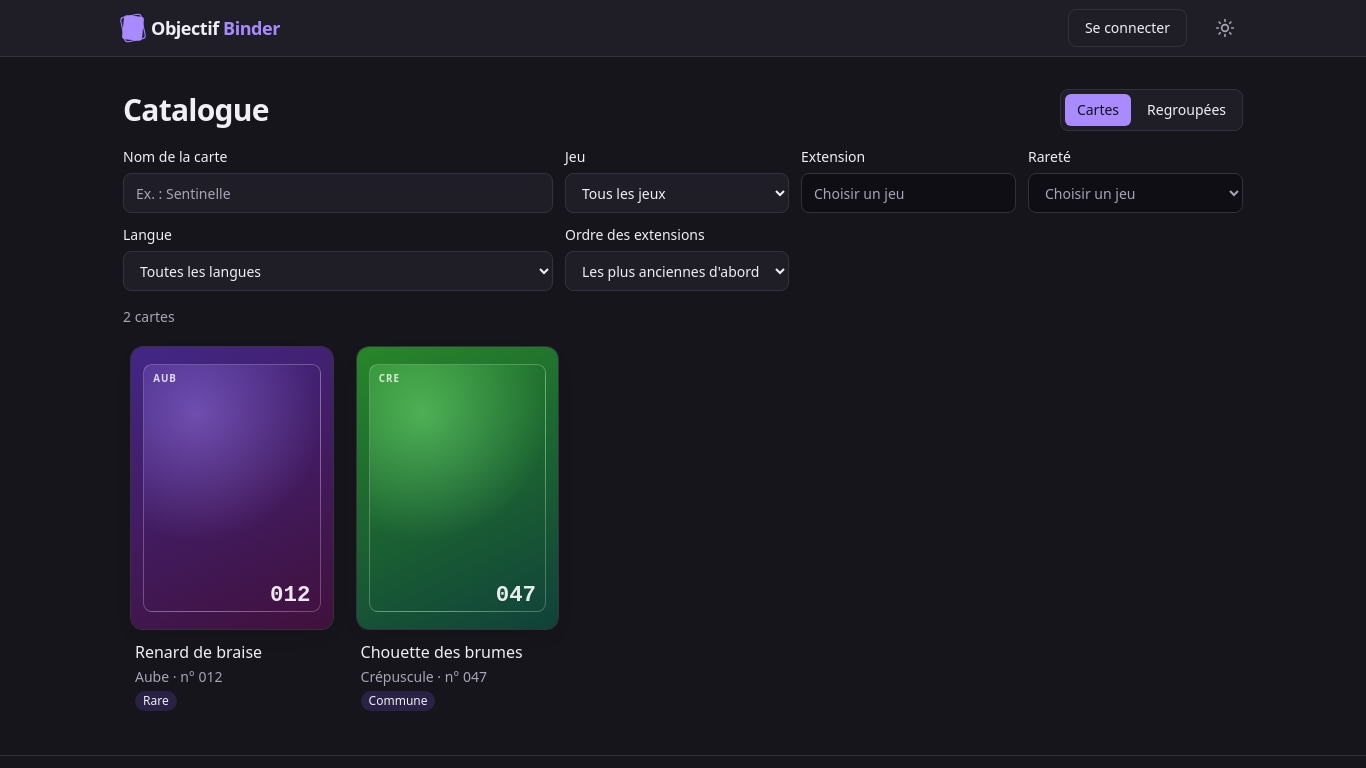
Test: CardSearchPage › filters › unlocks the set and rarity filters once a game is chosen
Check: the dropdown labelled "Extension" is disabled, box [801,173,1016,213]
Check: the dropdown labelled "Rareté" is disabled, box [1028,173,1243,213]
Select "Jeu de démo" in the dropdown labelled "Jeu": x=677, y=193 [565,173,789,213]
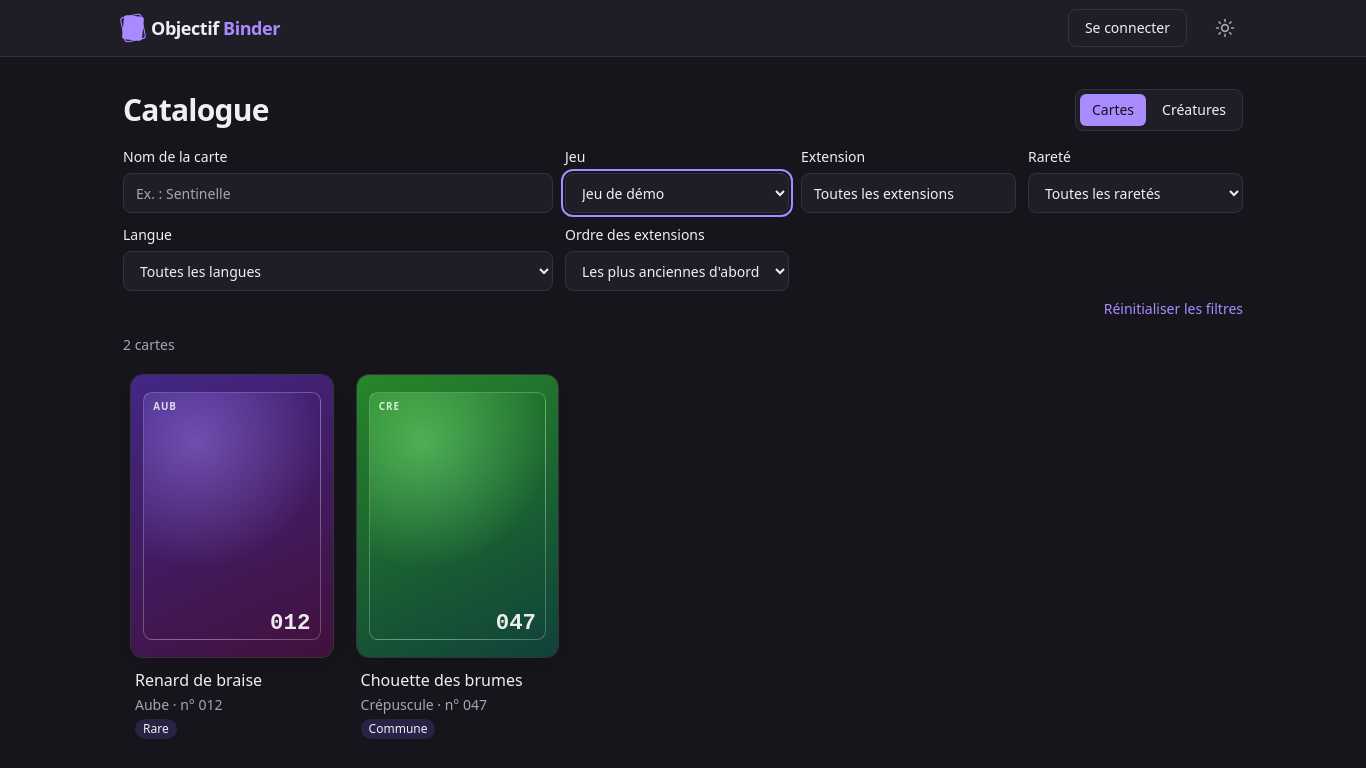
Check: the dropdown labelled "Extension" is enabled
Check: the dropdown labelled "Rareté" is enabled, box [1028,173,1243,213]
Click the dropdown labelled "Extension": x=908, y=193 [801,173,1016,213]
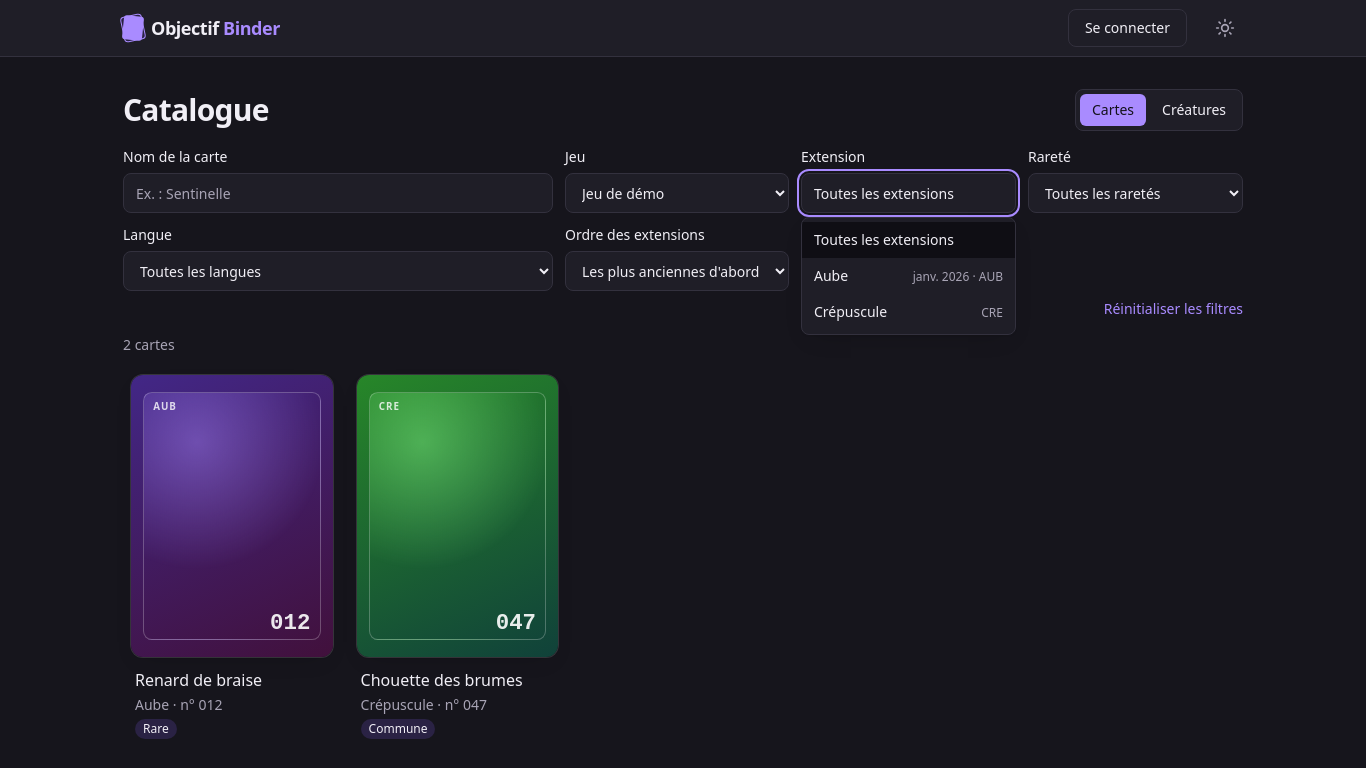
Check: the option "Aube janv. 2026 · AUB" is shown, box [814,266,1003,285]
